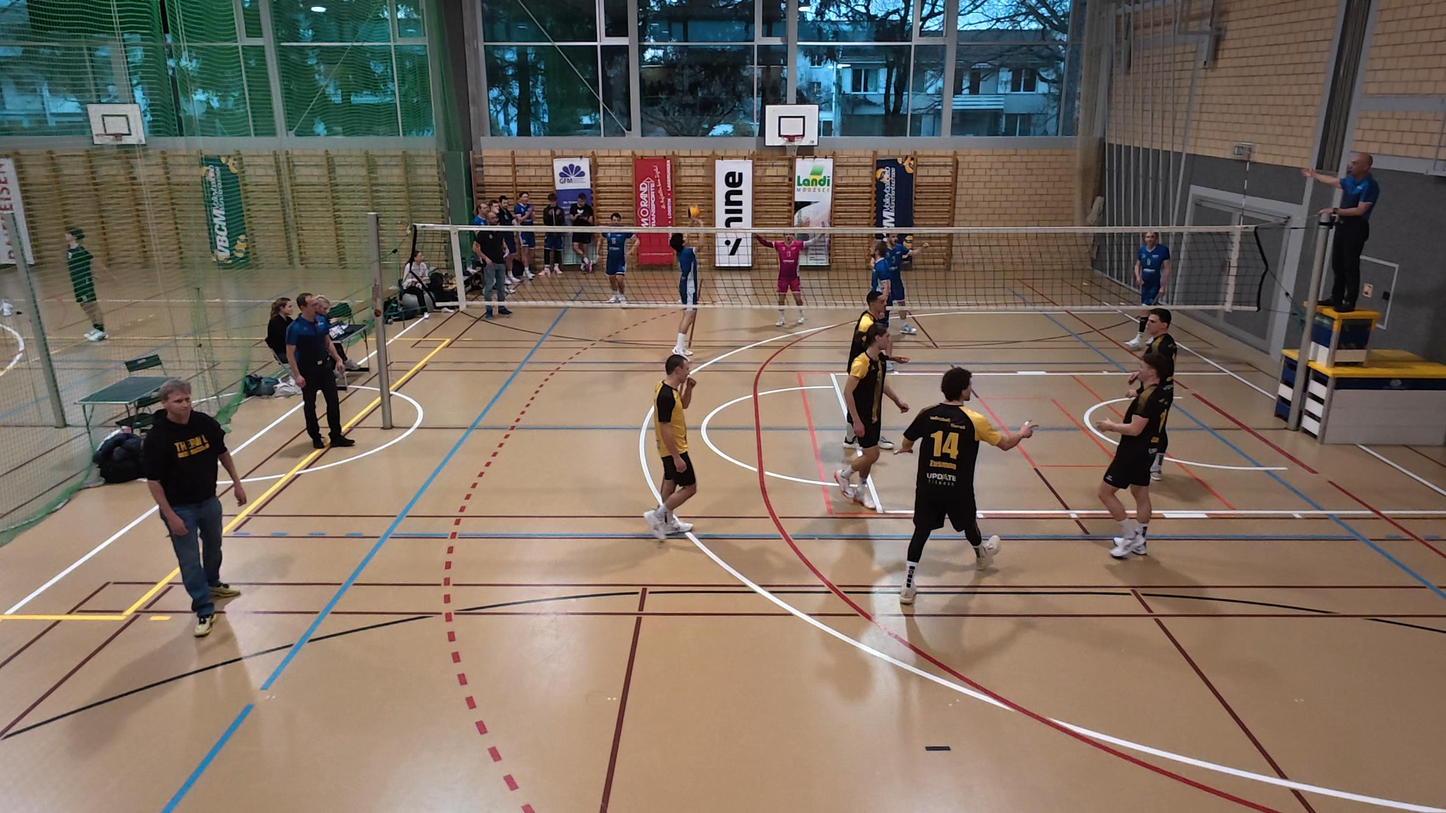Player: (889, 366, 1033, 604), (1100, 339, 1177, 558), (832, 325, 910, 510), (842, 289, 906, 445), (1125, 309, 1182, 481), (646, 354, 698, 538), (756, 230, 813, 327), (1128, 231, 1171, 347), (879, 233, 916, 334), (604, 212, 636, 305)
Set: (669, 223, 703, 353)
ball: (685, 201, 701, 218)
